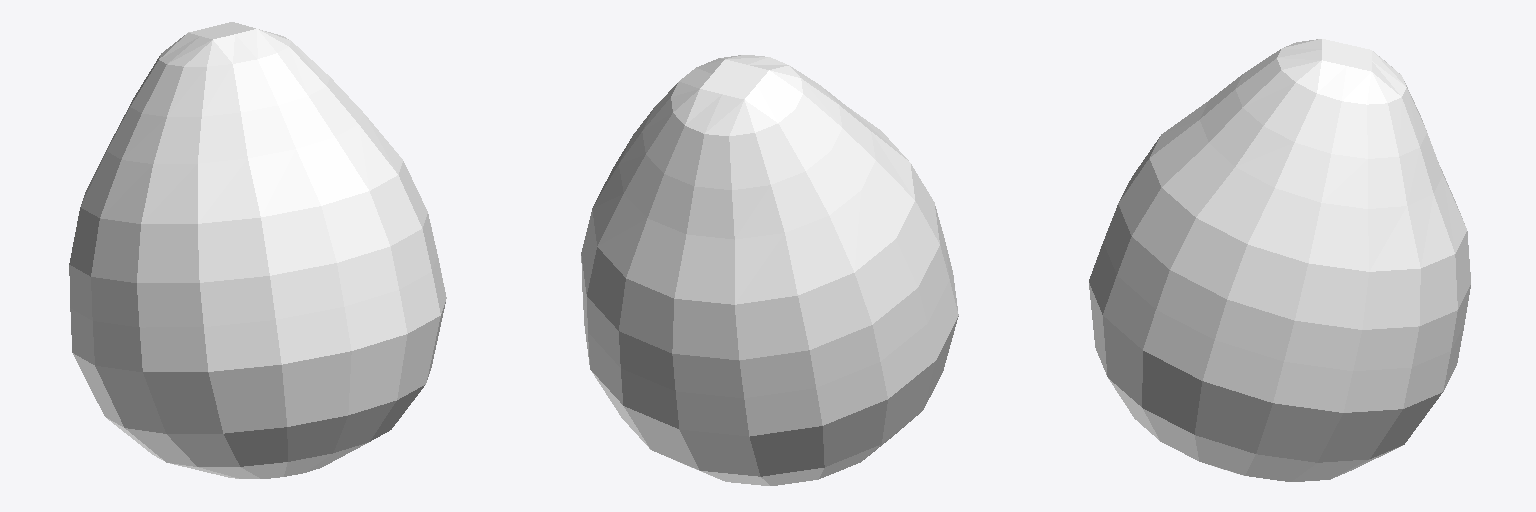
The model's file is Hand_Open_L.obj.
The picture shows the model from 3 angles: view 1: azimuth 30°, elevation 25°; view 2: azimuth 150°, elevation 25°; view 3: azimuth 270°, elevation 25°; orthographic projection.
Parts seen in each view (by area): view 1: ??.2; view 2: ??.2; view 3: ??.2.
Part boxes in pixels (bbox=[...]): ??.2: bbox=[69, 22, 446, 478]; ??.2: bbox=[581, 55, 958, 485]; ??.2: bbox=[1089, 39, 1470, 481].
Size of the model in its own units: 0.3543 by 0.4251 by 0.357.